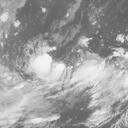cyclone: (28, 56, 72, 93)
